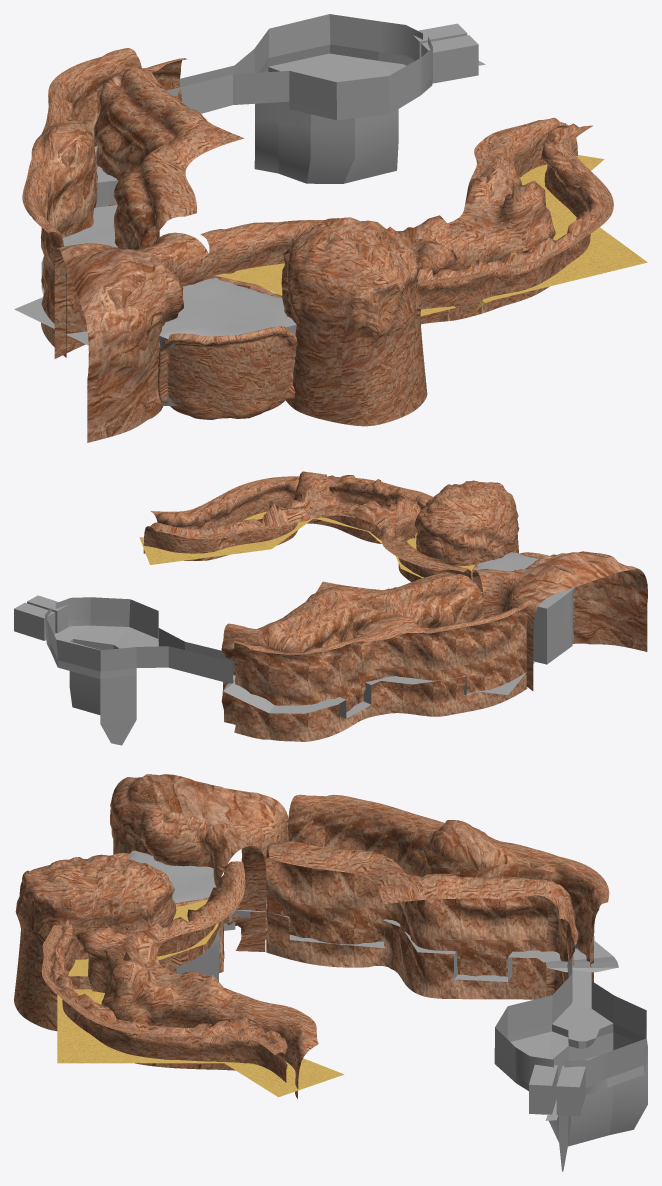
File: env_level01_TutorialV4.fbx
The picture shows the model from 3 angles, top to bottom: view 1: azimuth 30°, elevation 25°; view 2: azimuth 150°, elevation 25°; view 3: azimuth 270°, elevation 25°; orthographic projection. The views are drawn at different scales.
Visible parts, largest first — view 1: pCube200, pCube151, pCube154, polySurface4, polySurface5, polySurface6, pCube150, pCube152, pCube207, pCube147, pCube203, pCube180 (+2 smaller); view 2: polySurface6, pCube200, polySurface5, pCube154, polySurface4, pCube151, pCube150, pCube207, pCube203, pCube147, pCube181, pCube180; view 3: polySurface5, pCube200, polySurface4, polySurface6, pCube154, pCube151, pCube150, pCube147, pCube203, pCube207, pCube181, pCube180.
Part boxes in pixels (x1,y1,x2,y2): pCube200: (166,14,485,183); pCube151: (281,217,427,426); pCube154: (54,232,213,442); polySurface4: (200,117,577,278); polySurface5: (93,58,243,250); polySurface6: (22,48,141,357); pCube150: (416,123,613,324); pCube152: (158,326,297,419); pCube207: (159,278,296,406); pCube147: (463,155,647,315); pCube203: (14,145,118,345); pCube180: (421,35,478,83); polySurface6: (234,599,532,741); pCube200: (44,597,235,745); polySurface5: (221,572,484,724); pCube154: (472,551,647,690); polySurface4: (143,471,471,581); pCube151: (414,480,519,566); pCube150: (150,475,432,528); pCube207: (475,552,576,664); pCube203: (223,662,534,718); pCube147: (139,511,381,564); pCube181: (14,602,55,640); pCube180: (27,595,68,633); polySurface5: (266,841,578,999); pCube200: (494,940,647,1171); polySurface4: (76,861,318,1098); polySurface6: (288,794,609,981); pCube154: (110,774,288,951); pCube151: (14,854,176,1031); pCube150: (41,919,288,1082); pCube147: (57,989,344,1097); pCube203: (223,899,618,981); pCube207: (127,850,218,981); pCube181: (556,1065,585,1116); pCube180: (529,1064,557,1114).
Size of the model in its own units: 20858 by 5972 by 19280.
